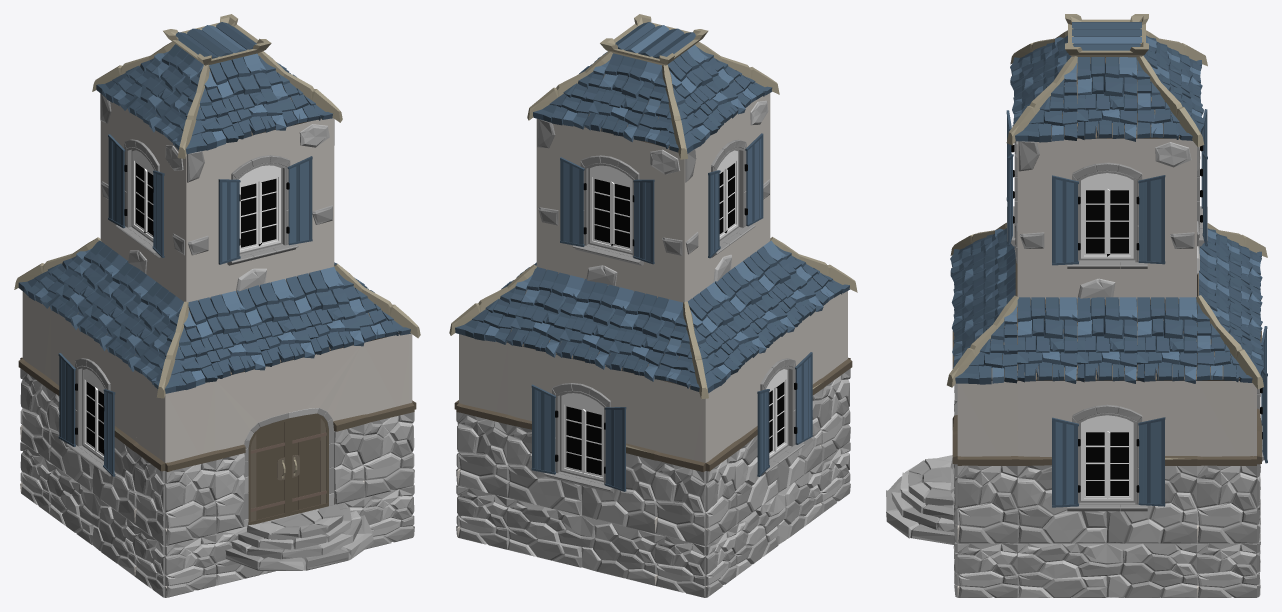
File: house_13.fbx
The picture shows the model from 3 angles, left to right: view 1: azimuth 30°, elevation 25°; view 2: azimuth 150°, elevation 25°; view 3: azimuth 270°, elevation 25°; orthographic projection. The views are drawn at different scales.
Visible parts, largest first — view 1: DOOR_04_2, WINDOW_05_6, WINDOW_06_7, WINDOW_05_7, WALL_04_19, WALL_04_20, STAIRS_06_2, WALL_04_21, FOUNDATION_01_5, WALL_04_22, ROOF_base_67, ROOF_base_69 (+18 smaller); view 2: WINDOW_06_6, WINDOW_05_8, WINDOW_06_7, WINDOW_05_7, FOUNDATION_01_4, WALL_04_28, WALL_04_27, WALL_04_22, FOUNDATION_01_5, WALL_04_21, ROOF_base_68, ROOF_base_73 (+17 smaller); view 3: WINDOW_06_5, WINDOW_05_9, FOUNDATION_01_3, WALL_04_25, WALL_04_26, ROOF_base_70, ROOF_base_71, ROOF_base_72, ROOF_base_77, STAIRS_06_2, ROOF_CORNER_OUT_9, ROOF_CORNER_OUT_7 (+22 smaller).
Part boxes in pixels (x1,y1,x2,y2): DOOR_04_2: (214,345,365,533); WINDOW_05_6: (186,118,334,301); WINDOW_06_7: (47,310,136,524); WINDOW_05_7: (100,93,188,302); WALL_04_19: (163,381,216,545); WALL_04_20: (362,334,414,497); STAIRS_06_2: (225,504,373,570); WALL_04_21: (132,371,168,545); FOUNDATION_01_5: (48,463,137,576); WALL_04_22: (18,293,51,461); ROOF_base_67: (188,291,265,378); ROOF_base_69: (285,267,364,354); WINDOW_06_6: (505,343,656,533); WINDOW_05_8: (536,118,684,301); WINDOW_06_7: (734,311,823,524); WINDOW_05_7: (681,93,770,302); FOUNDATION_01_4: (506,498,656,585); WALL_04_28: (654,379,707,546); WALL_04_27: (456,335,508,497); WALL_04_22: (702,374,738,545); FOUNDATION_01_5: (734,463,822,576); WALL_04_21: (819,292,852,461); ROOF_base_68: (605,291,683,381); ROOF_base_73: (506,267,584,357); WINDOW_06_5: (1017,381,1196,543); WINDOW_05_9: (1017,138,1196,299); FOUNDATION_01_3: (1017,543,1196,597); WALL_04_25: (1197,381,1256,543); WALL_04_26: (957,381,1017,543); ROOF_base_70: (1017,297,1077,383); ROOF_base_71: (1076,297,1137,383); ROOF_base_72: (1136,297,1197,383); ROOF_base_77: (1077,57,1137,141); STAIRS_06_2: (886,455,954,544); ROOF_CORNER_OUT_9: (1006,56,1077,145); ROOF_CORNER_OUT_7: (947,295,1018,387).
Size of the model in its own units: 537 by 927 by 638.
